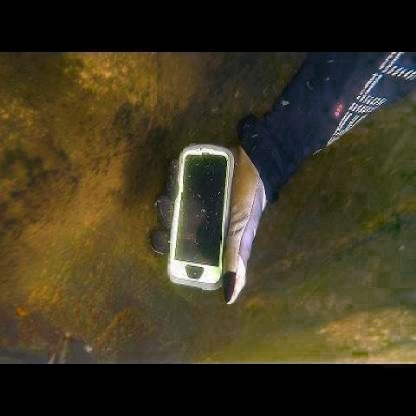cellphone: (166, 143, 231, 290)
